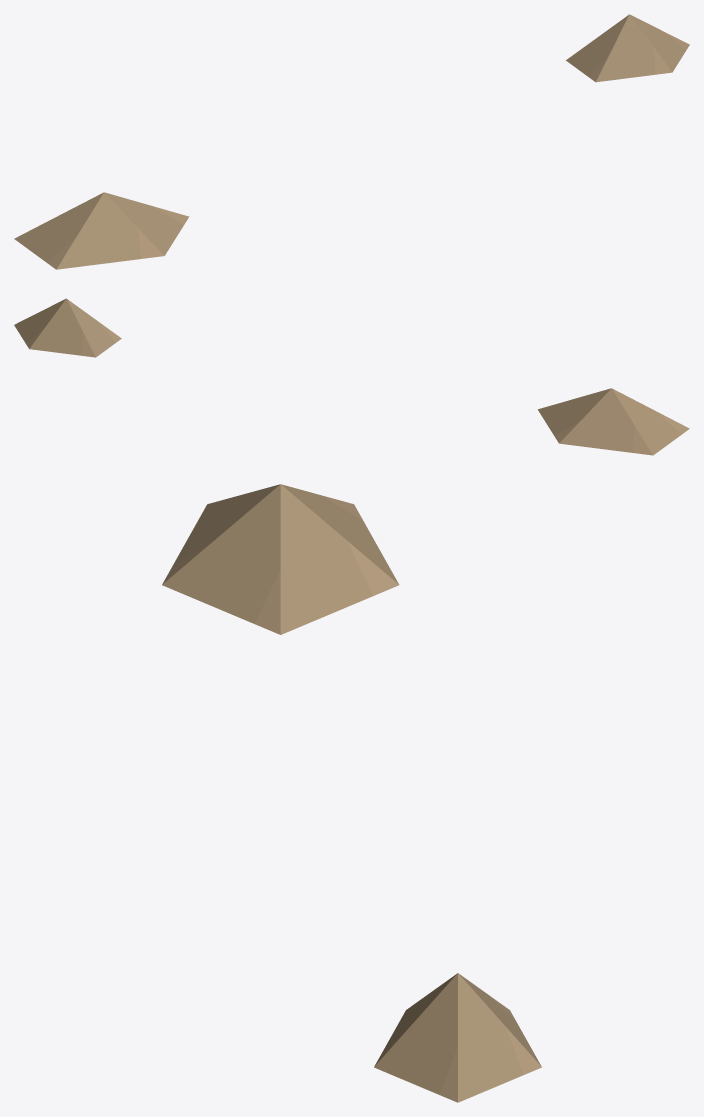
File: shell-line-far.glb
The picture shows the model from 3 angles, top to bottom: view 1: azimuth 30°, elevation 25°; view 2: azimuth 150°, elevation 25°; view 3: azimuth 270°, elevation 25°; orthographic projection. The views are drawn at different scales.
Parts seen in each view (by area): view 1: shell-line.001; view 2: shell-line.001; view 3: shell-line.001.
Part boxes in pixels (x1,y1,x2,y2): shell-line.001: (14,14,689,269); shell-line.001: (14,298,689,455); shell-line.001: (162,484,541,1102).
Bounding box in the file's own units: 0.5388 × 0.033 × 0.1447.
Materials: 1 (1 with a texture image).
